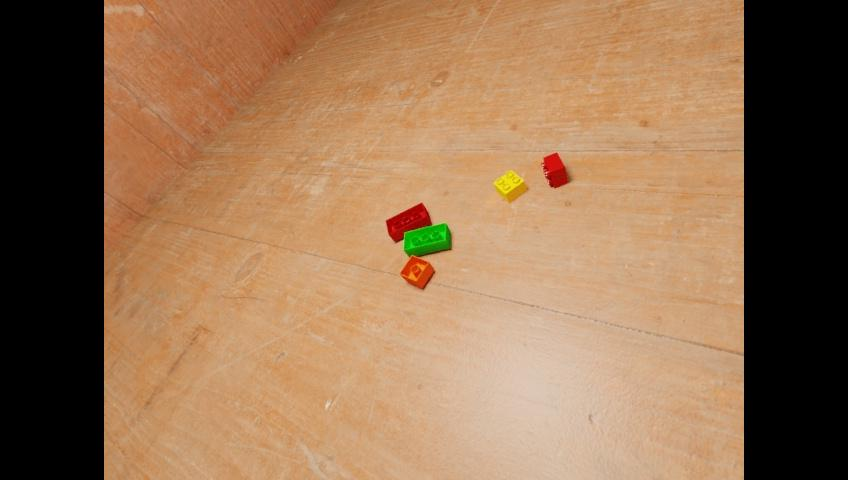2x2_orange: (399, 254, 433, 287)
2x2_red: (541, 151, 567, 187)
2x2_yellow: (493, 170, 526, 202)
4x2_green: (403, 222, 449, 256)
4x2_red: (385, 201, 430, 241)
